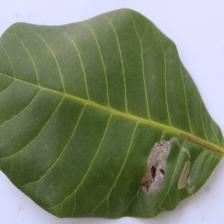leaf miner: (0, 7, 224, 219)
